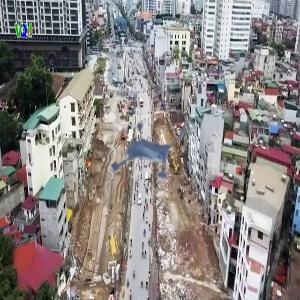drone: (95, 115, 189, 209)
